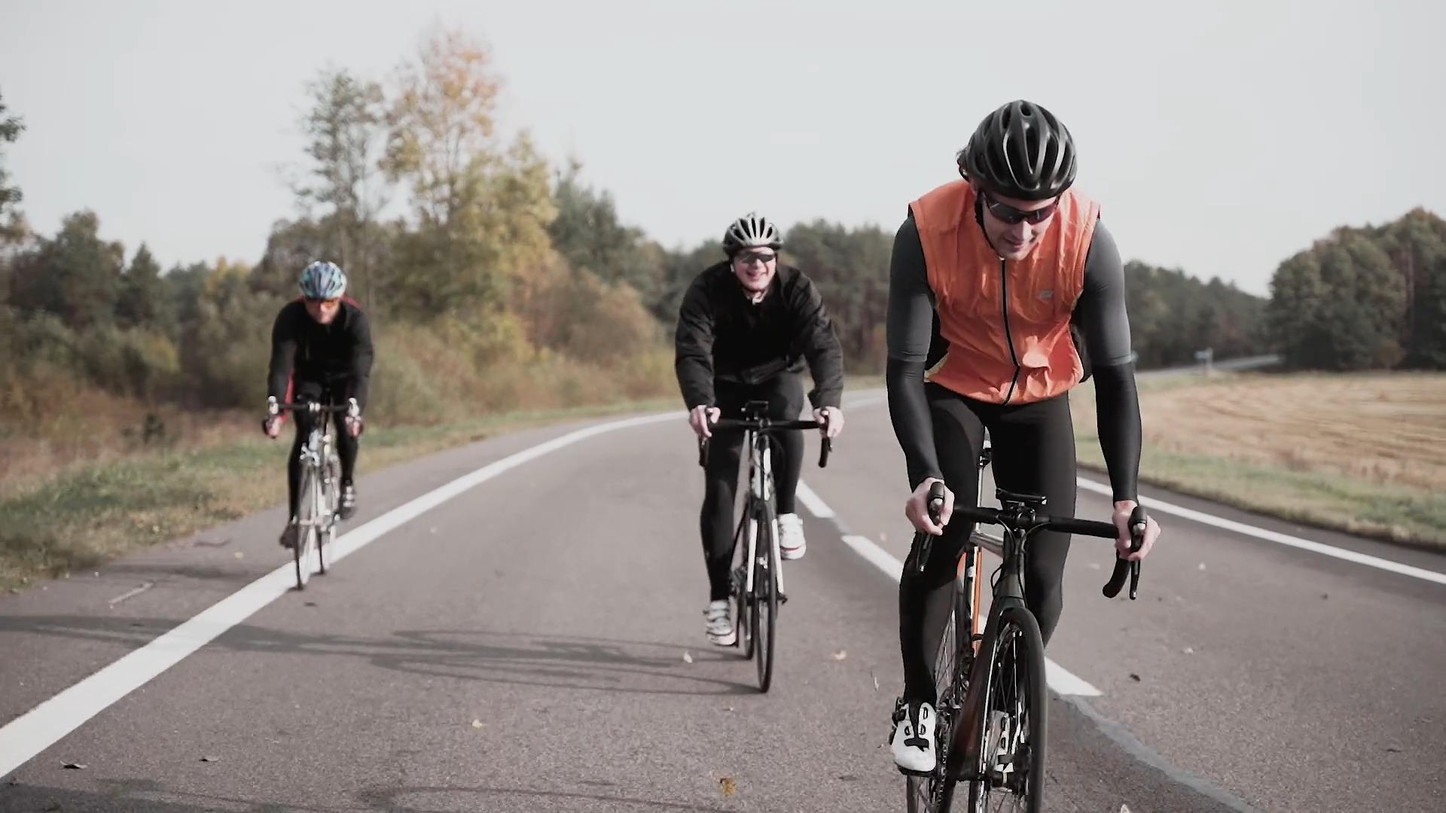bicyclist: (885, 97, 1163, 813), (675, 212, 846, 693), (260, 261, 375, 590)
helmet: (955, 97, 1079, 261), (721, 212, 783, 293), (297, 262, 348, 325)
